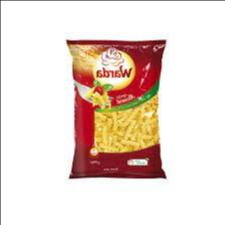Ressort: (65, 41, 165, 177)
